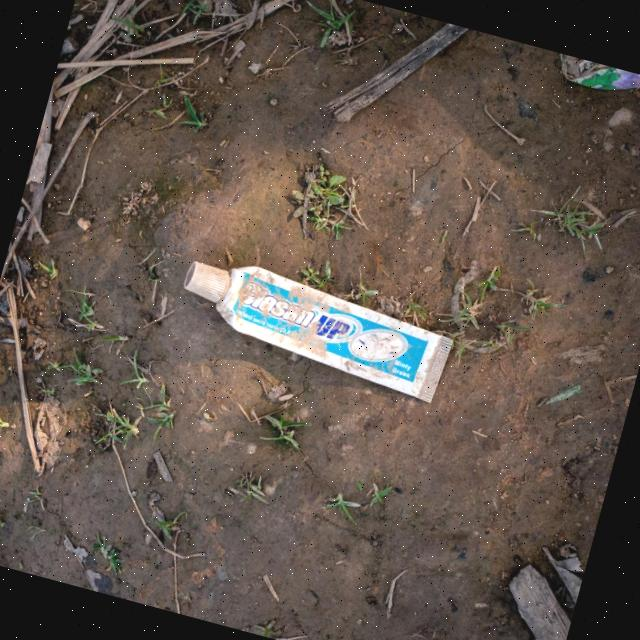Toothpaste: (159, 240, 472, 412)
